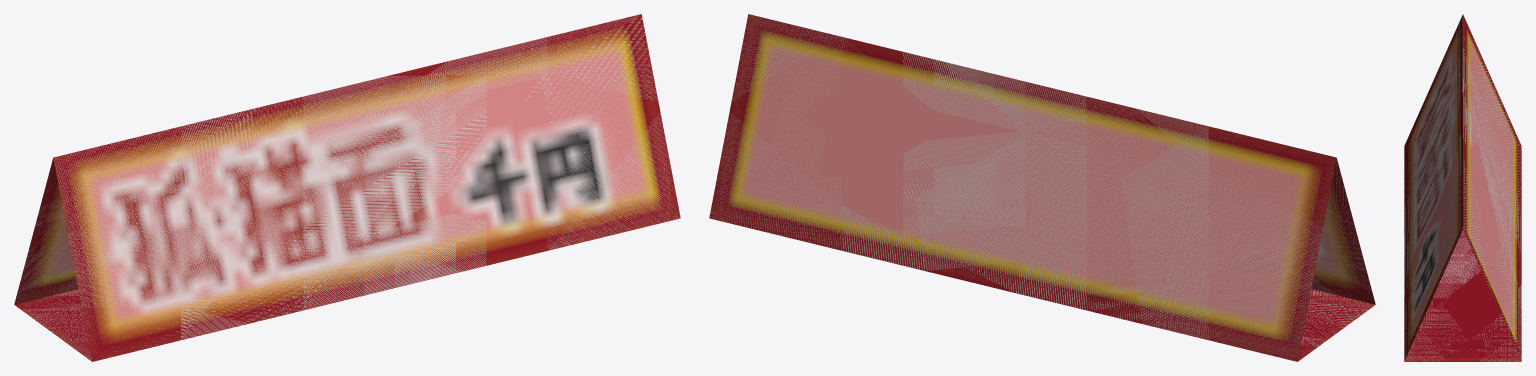
Rendered from jsf_Flyer_Mask_07.fbx.
3 renders of one model, left to right at view 1: azimuth 30°, elevation 25°; view 2: azimuth 150°, elevation 25°; view 3: azimuth 270°, elevation 25°, orthographic. The views are drawn at different scales.
Visible parts, largest first — view 1: jsf_Flyer_Mask_07; view 2: jsf_Flyer_Mask_07; view 3: jsf_Flyer_Mask_07.
Part boxes in pixels (<box>): jsf_Flyer_Mask_07: <box>14,14,680,361</box>; jsf_Flyer_Mask_07: <box>709,14,1375,361</box>; jsf_Flyer_Mask_07: <box>1404,14,1521,361</box>.
Bounding box in the file's own units: 19.76 × 5.64 × 4.55.
